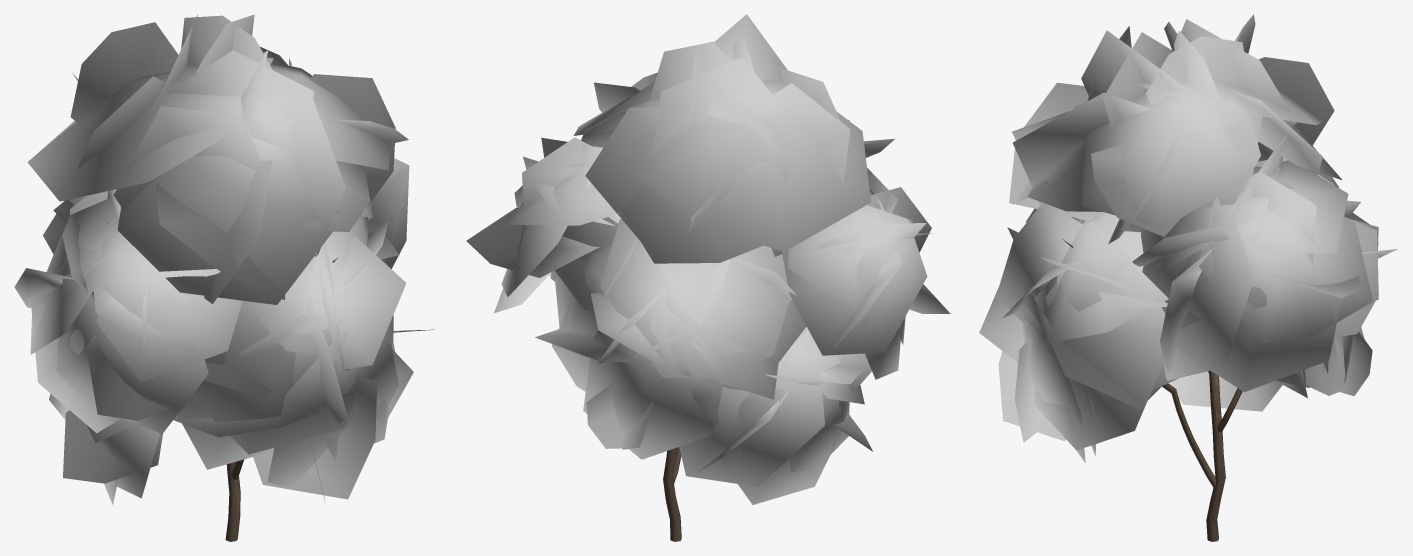
Rendered from MSH_fwOF_TreeSapling_01B.fbx.
3 views of the same model, side by side, from view 1: azimuth 30°, elevation 25°; view 2: azimuth 150°, elevation 25°; view 3: azimuth 270°, elevation 25° (orthographic). The views are drawn at different scales.
Parts seen in each view (by area): view 1: MSH_fwOF_TreeSapling_01B_LOD0; view 2: MSH_fwOF_TreeSapling_01B_LOD0; view 3: MSH_fwOF_TreeSapling_01B_LOD0.
Boxes of the visible parts, x1,y1,x2,y2 form: MSH_fwOF_TreeSapling_01B_LOD0: (14,14,434,541); MSH_fwOF_TreeSapling_01B_LOD0: (466,14,950,541); MSH_fwOF_TreeSapling_01B_LOD0: (979,14,1397,541).
Size of what is drawn, in the model's own units: 1.33 by 1.76 by 1.34.
